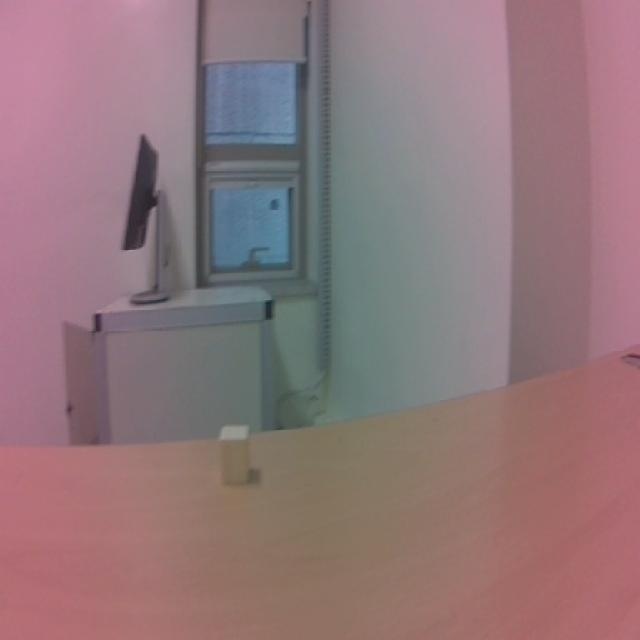obstacle: (213, 416, 258, 490)
